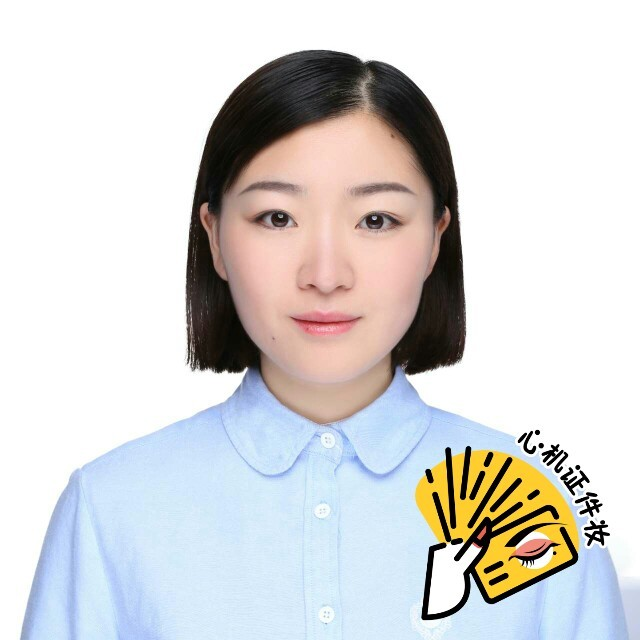unmask: (237, 120, 428, 382)
